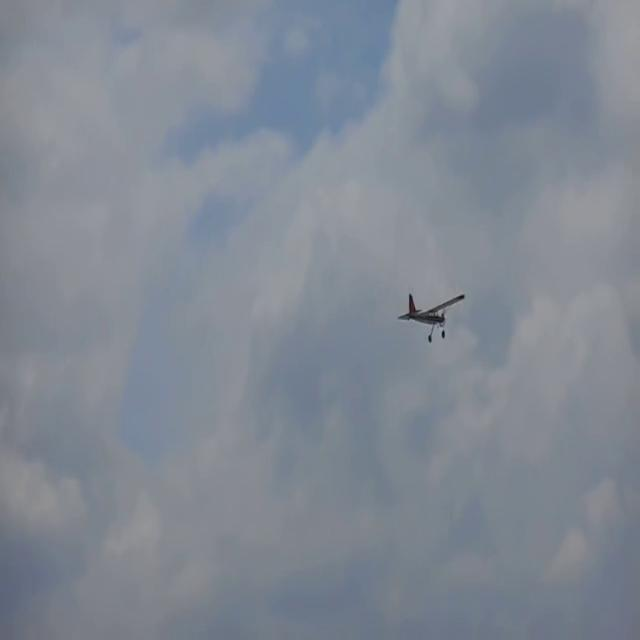iha: (430, 291, 434, 342)
